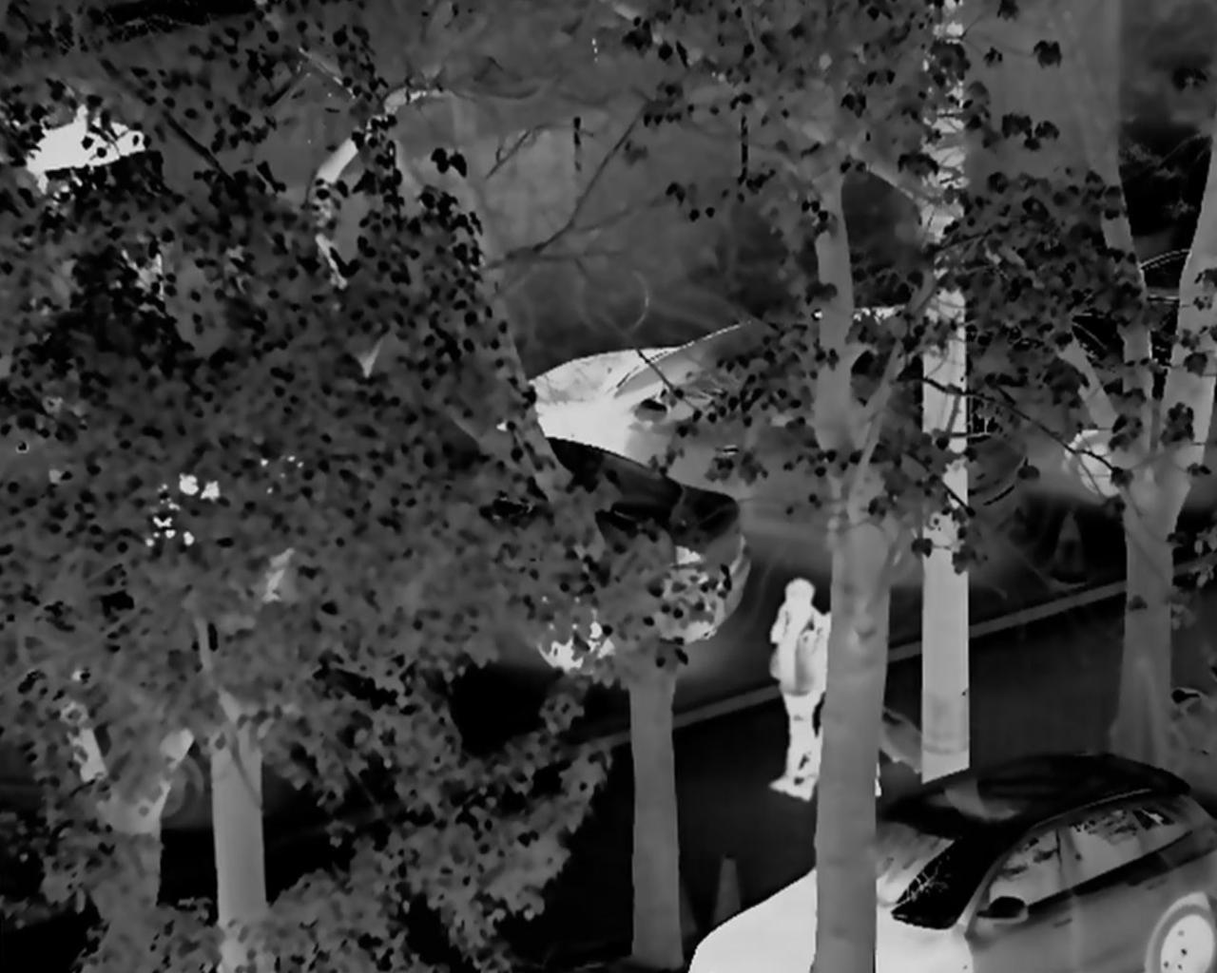person: (760, 569, 824, 801)
